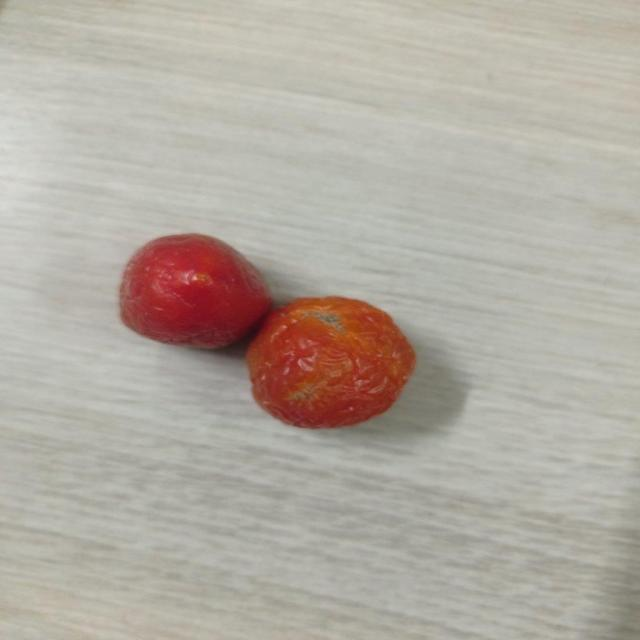overripe: (250, 292, 417, 431), (116, 227, 266, 352)
